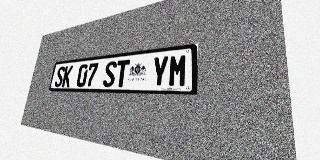0: (76, 64, 89, 87)
7: (85, 63, 99, 87)
K: (61, 65, 73, 87)
M: (168, 53, 188, 87)
S: (102, 61, 117, 87), (54, 66, 65, 87)
T: (114, 59, 130, 87)
Y: (150, 55, 169, 87)
